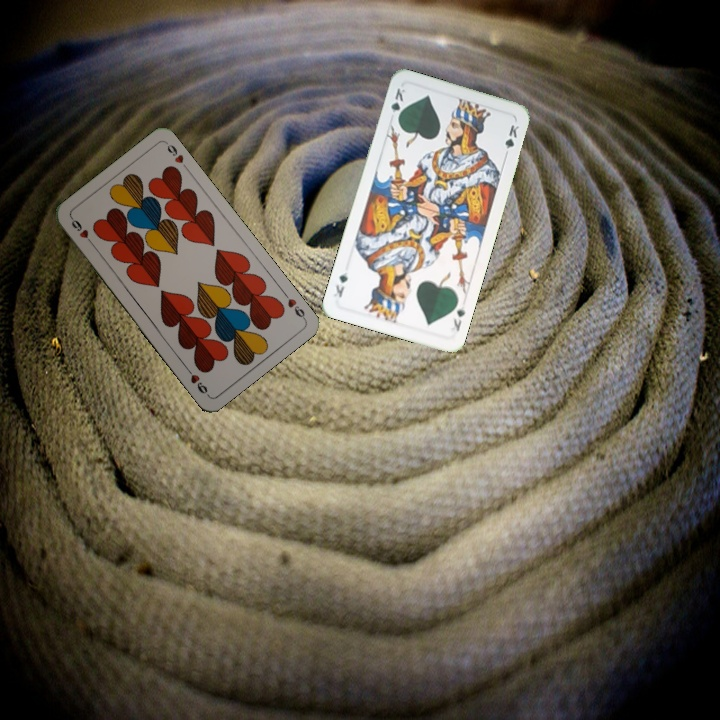GK: (387, 84, 408, 124), (448, 298, 468, 334)
H9: (279, 287, 308, 322), (67, 214, 96, 248)
